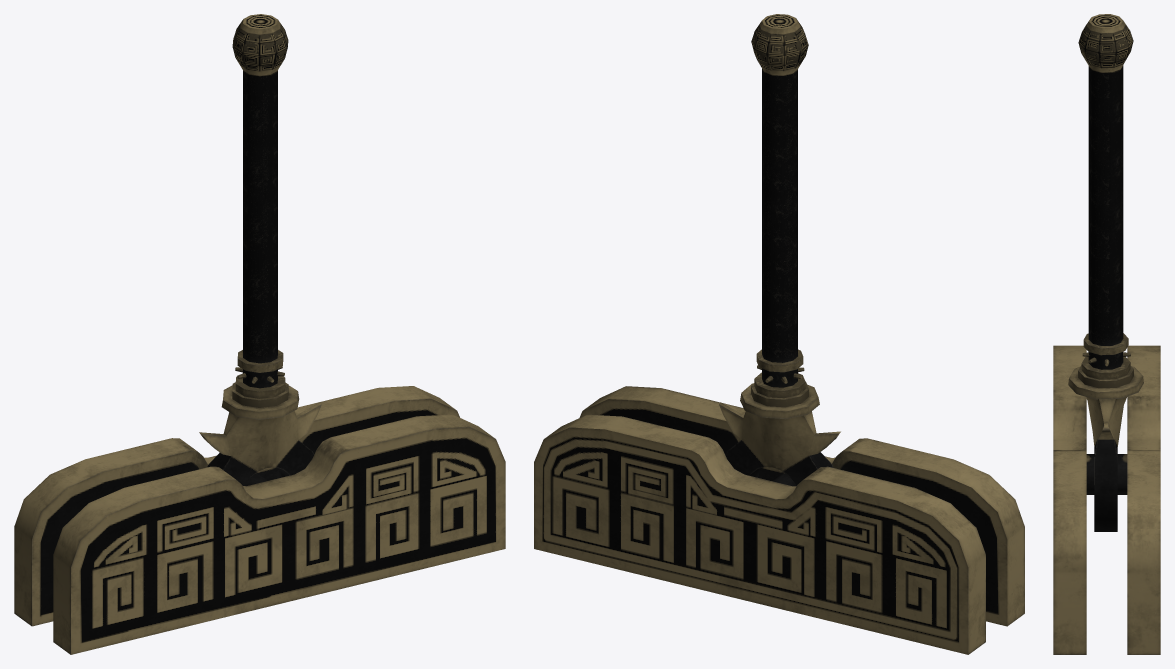
The model's file is lever_3.fbx.
3 renders of one model, left to right at view 1: azimuth 30°, elevation 25°; view 2: azimuth 150°, elevation 25°; view 3: azimuth 270°, elevation 25°, orthographic. The views are drawn at different scales.
Visible parts, largest first — view 1: lever_base, lever; view 2: lever_base, lever; view 3: lever_base, lever.
Part boxes in pixels (x1=…): lever_base: x1=14, y1=386, x2=505, y2=654; lever: x1=199, y1=14, x2=321, y2=485; lever_base: x1=534, y1=386, x2=1024, y2=654; lever: x1=719, y1=14, x2=840, y2=485; lever_base: x1=1053, y1=345, x2=1160, y2=654; lever: x1=1068, y1=14, x2=1143, y2=531.
Size of the model in its own units: 14.91 by 18.34 by 3.36.
